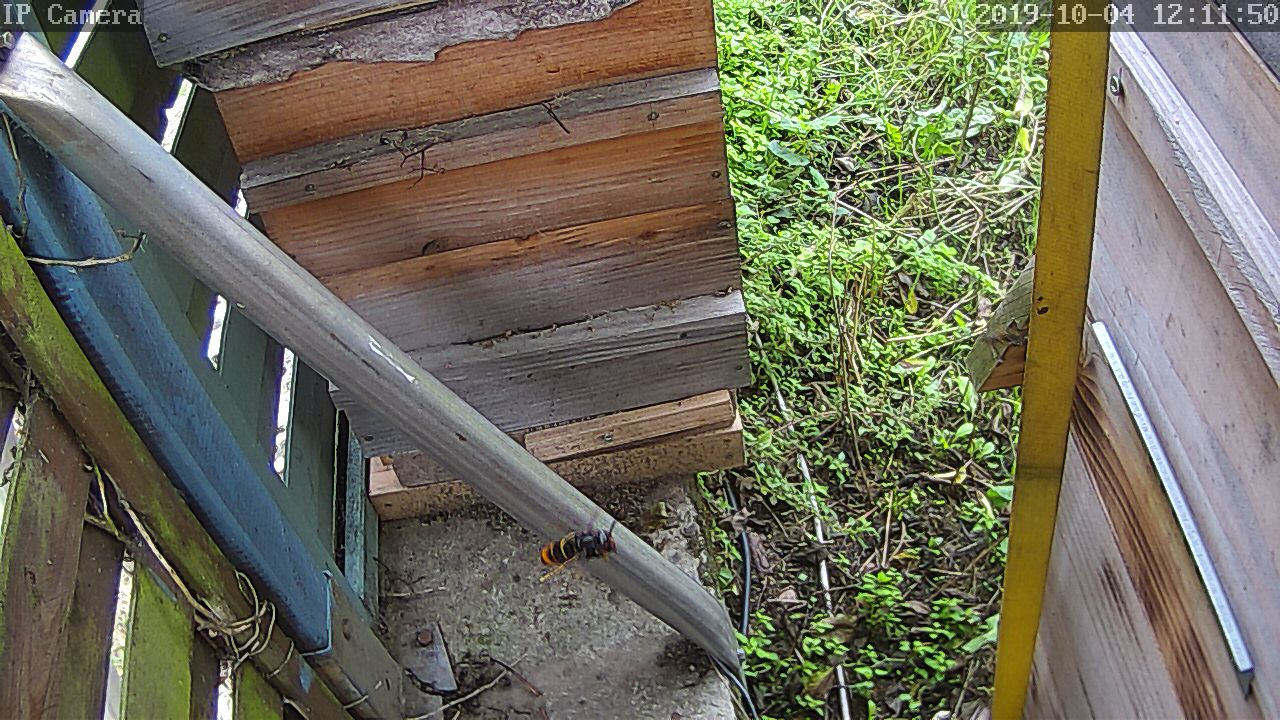hornet: (532, 521, 608, 571), (989, 318, 1024, 372)
